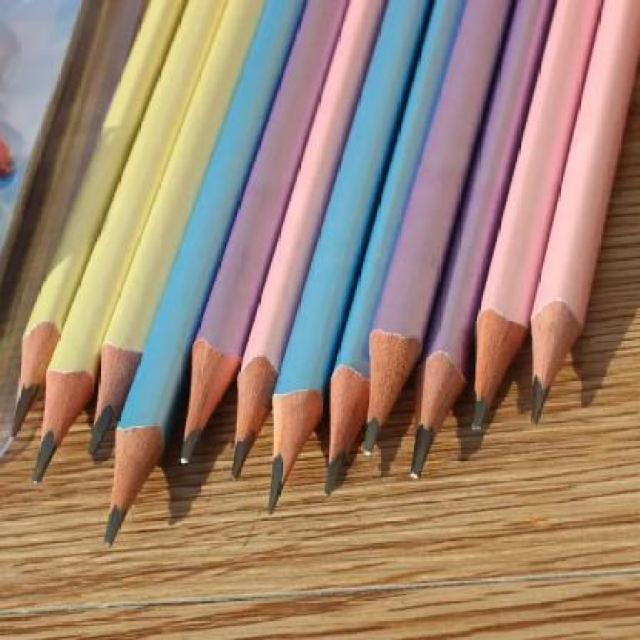pencil: (94, 0, 306, 564), (25, 0, 228, 501), (262, 0, 434, 527), (80, 0, 265, 477), (170, 1, 349, 483), (2, 0, 187, 456), (227, 0, 387, 486), (404, 0, 556, 496), (319, 0, 466, 508), (360, 0, 517, 466), (466, 0, 604, 444), (527, 0, 640, 436)
